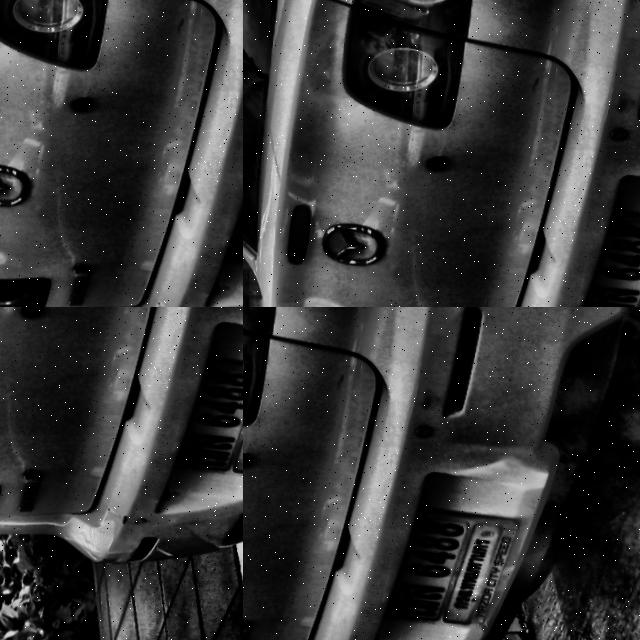license-plate: (380, 502, 521, 624)
